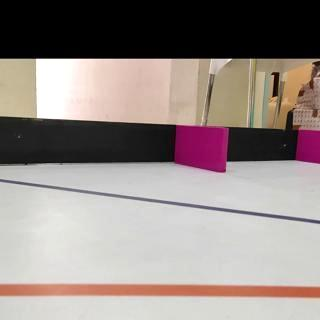xparking: (179, 126, 226, 166), (302, 130, 320, 160)
